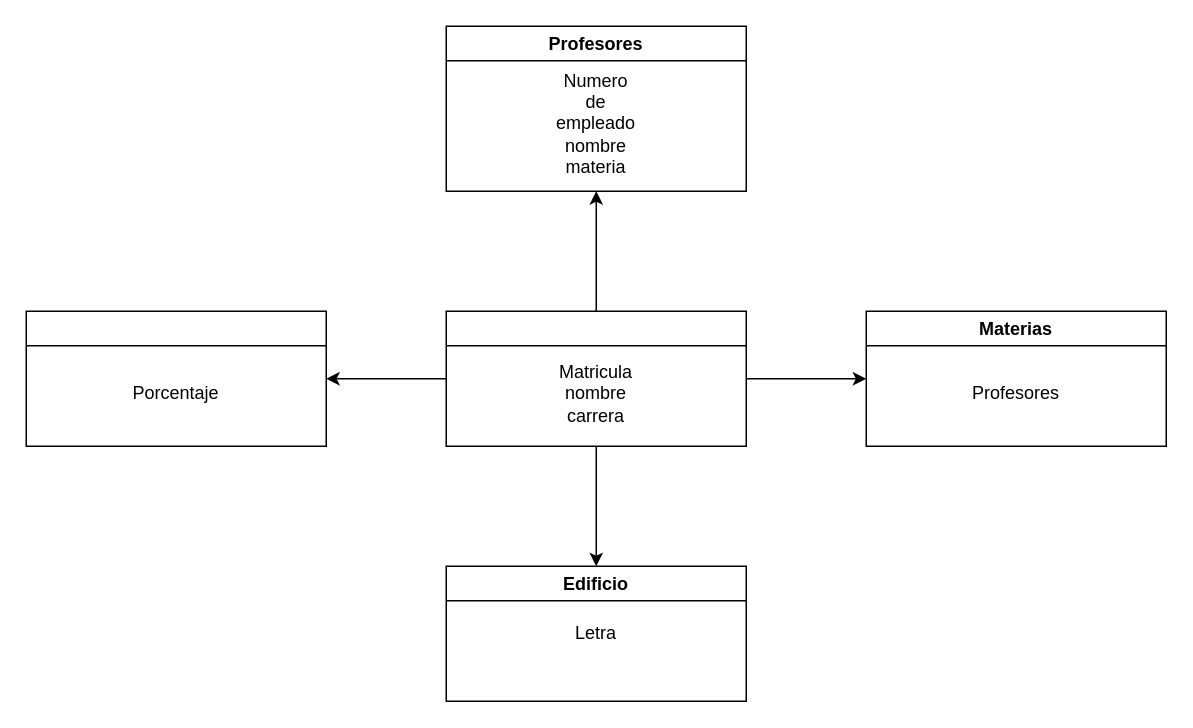
Some shapes in this 1193 by 728 pixel diagram are drawn without their labels. The box of each missing label's shape, as (x1, y1, x2, y2) in pixels:
Alumnos: (445, 310, 746, 446)
Beca: (25, 310, 326, 446)
